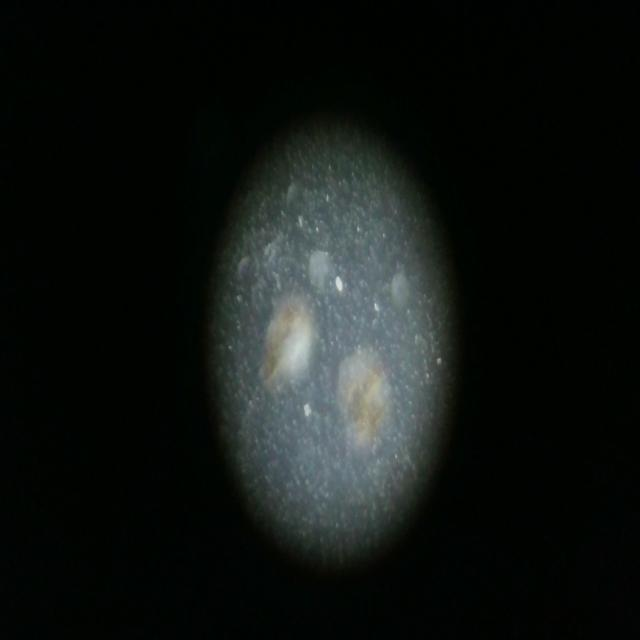alexandrium: (256, 283, 318, 397), (342, 344, 388, 452)
